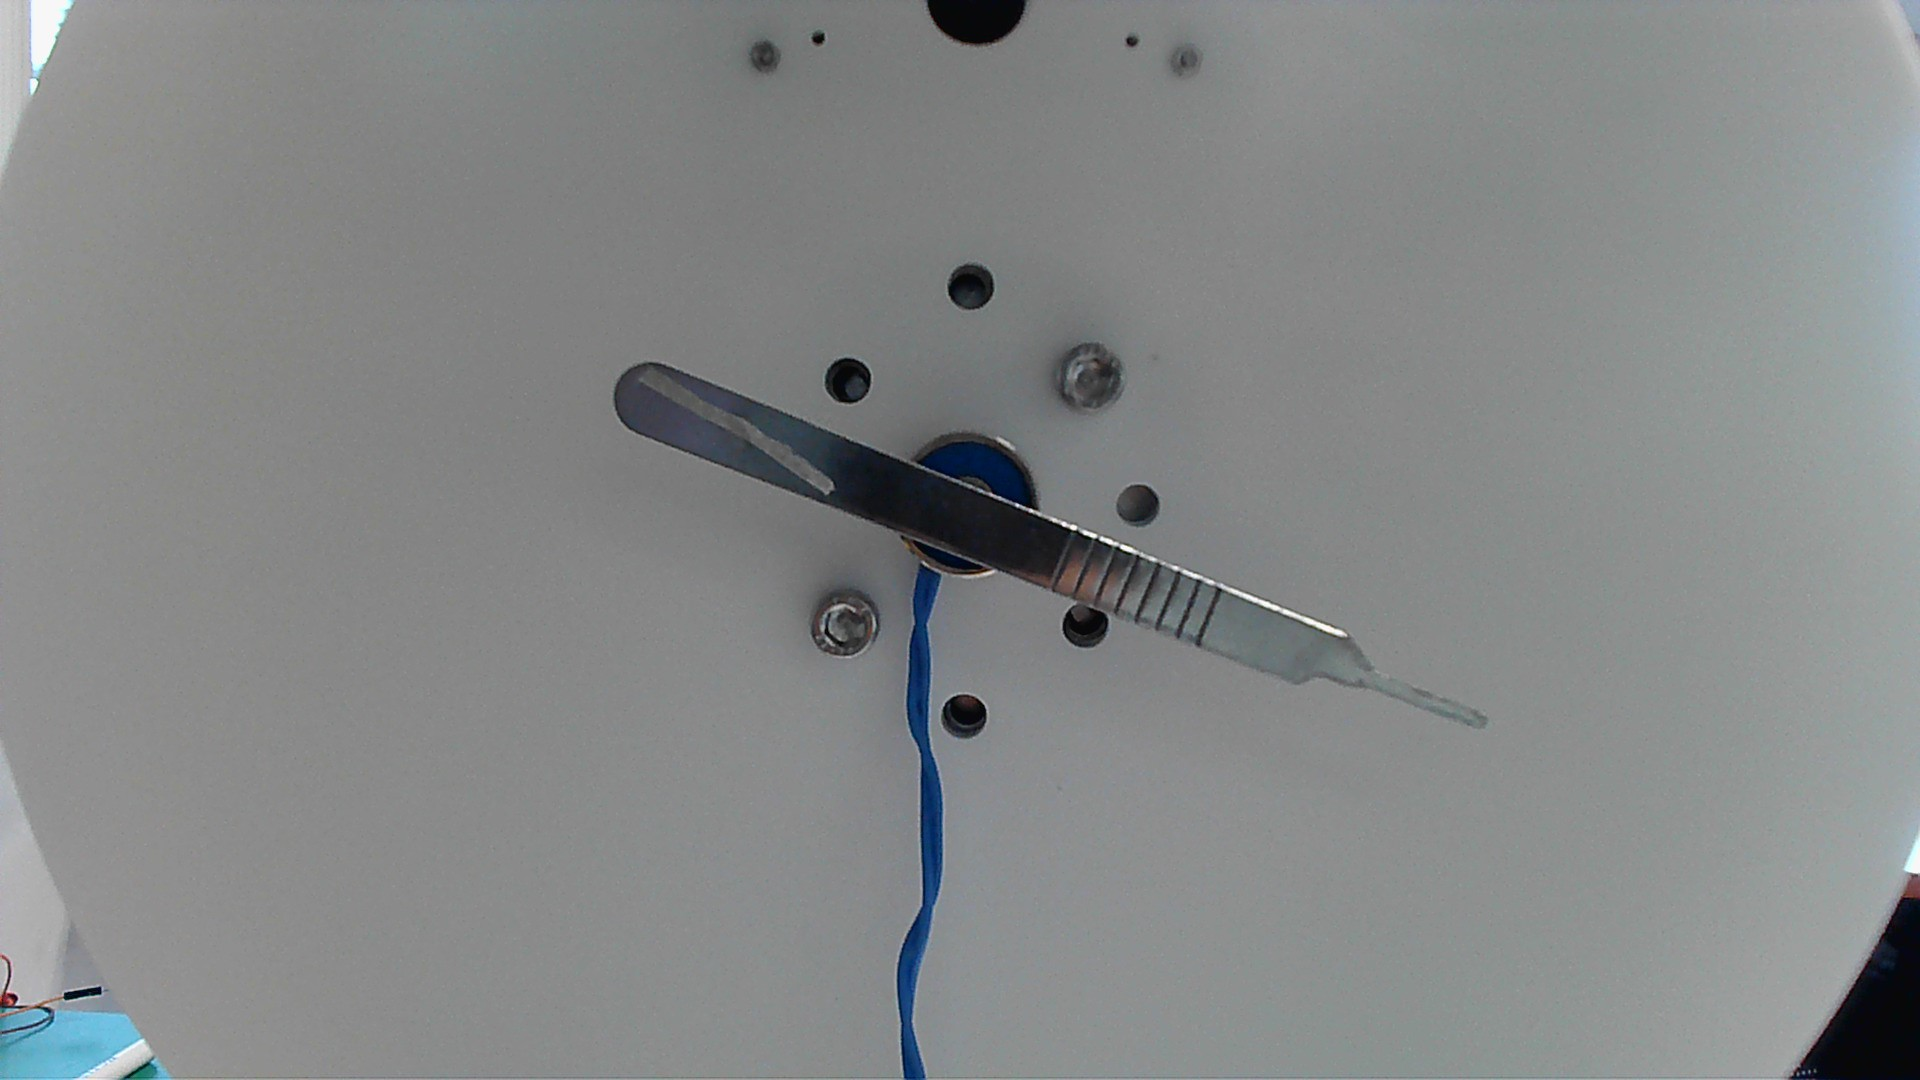Scratches: (626, 361, 843, 510)
